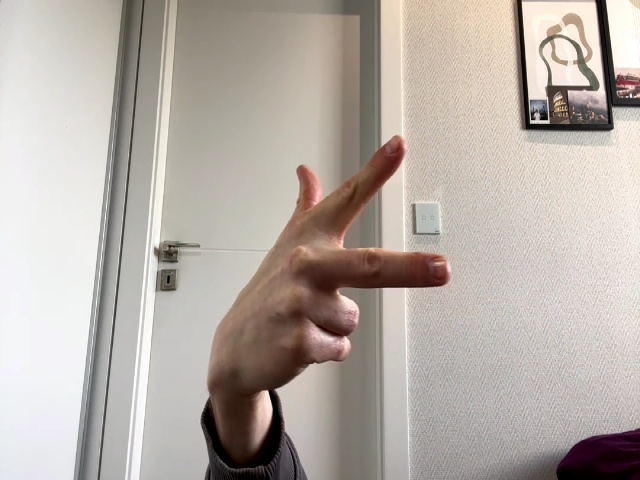K: (235, 136, 451, 382)
